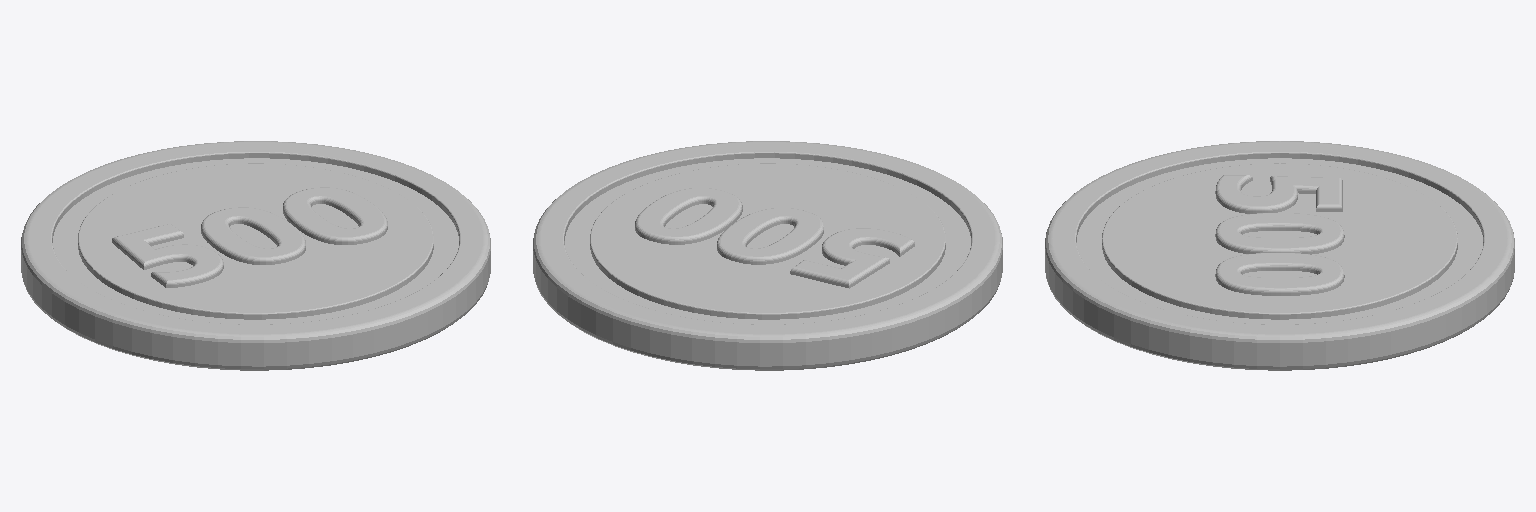
File: poker_chip_500.obj
The picture shows the model from 3 angles: view 1: azimuth 30°, elevation 25°; view 2: azimuth 150°, elevation 25°; view 3: azimuth 270°, elevation 25°; orthographic projection.
Visible parts, largest first — view 1: obj1; view 2: obj1; view 3: obj1.
Boxes of the visible parts, <box> form: obj1: <box>21,141,490,370</box>; obj1: <box>533,141,1002,370</box>; obj1: <box>1045,141,1514,370</box>.
Bounding box in the file's own units: 0.0802 × 0.0091 × 0.0802.